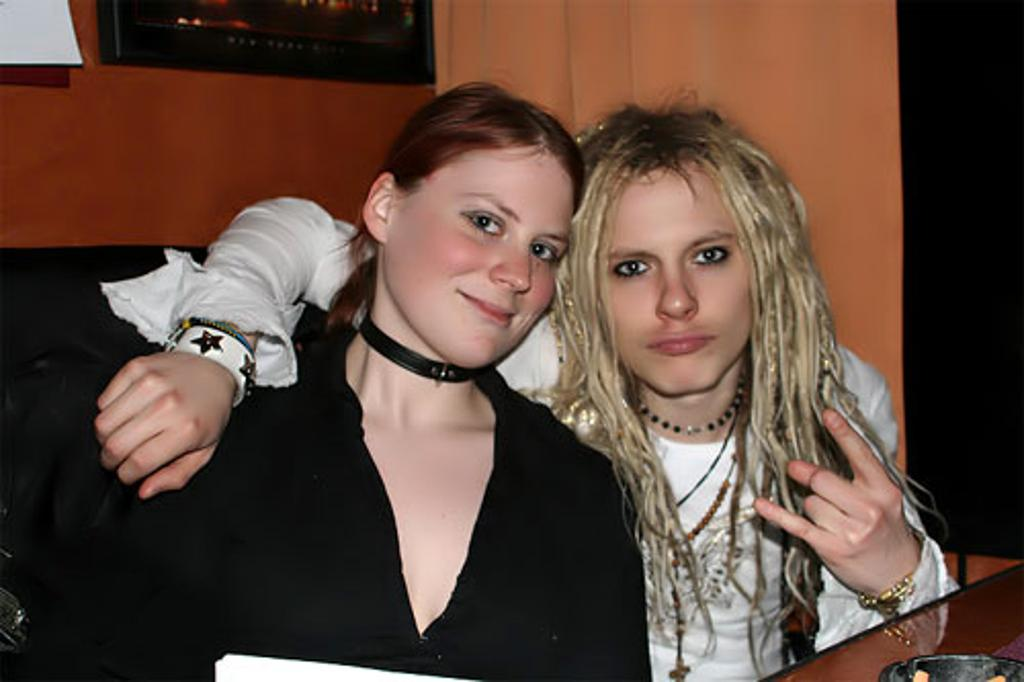face: (408, 148, 574, 352), (610, 164, 748, 390)
